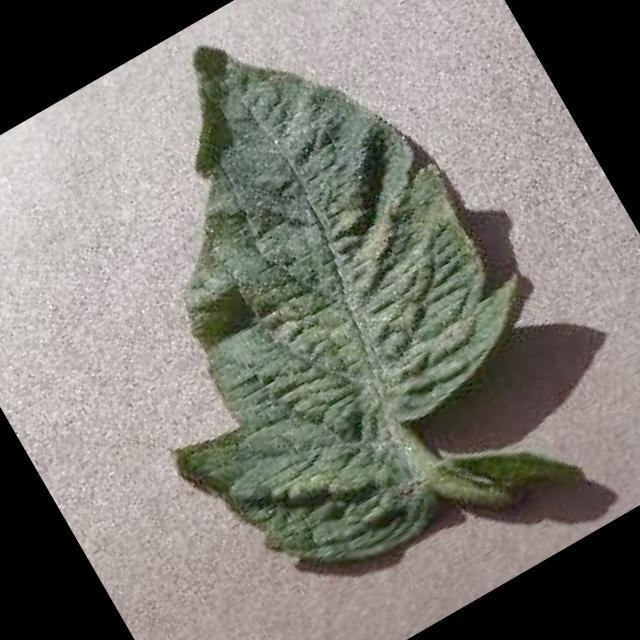Tomato spider mites leaf: (0, 0, 609, 628)
